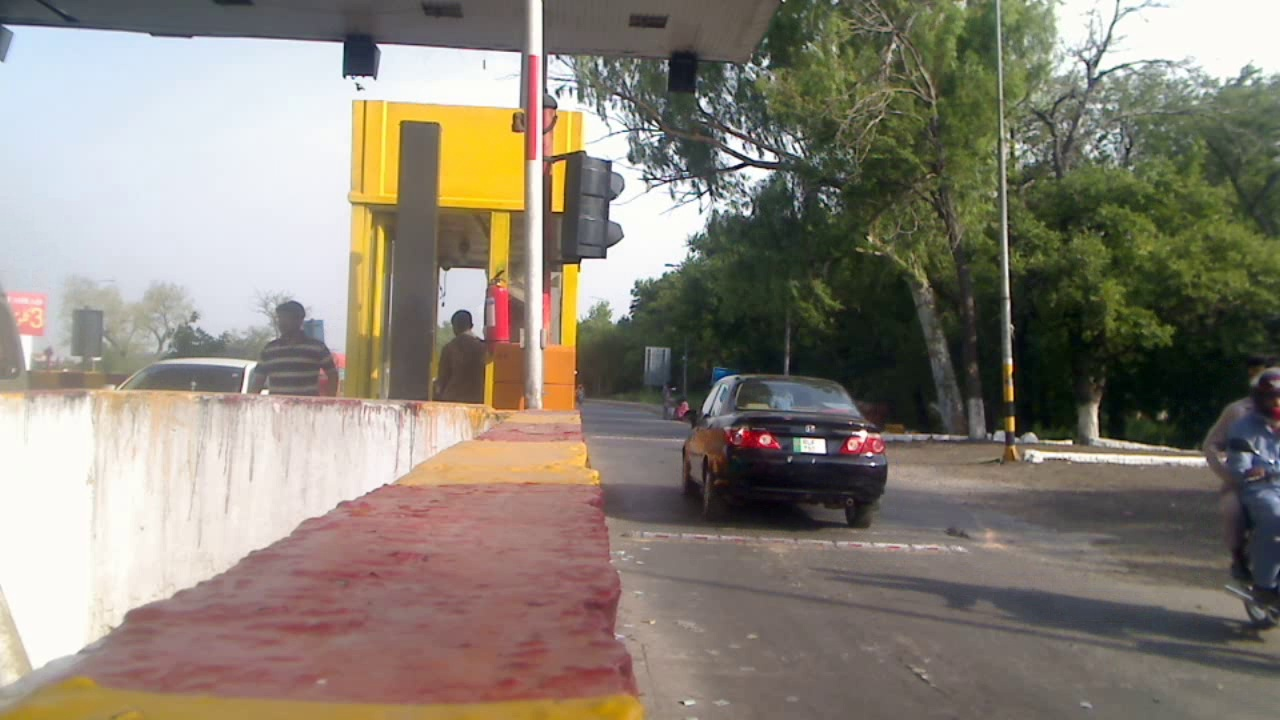Number Plate (Car): (795, 437, 824, 451)
